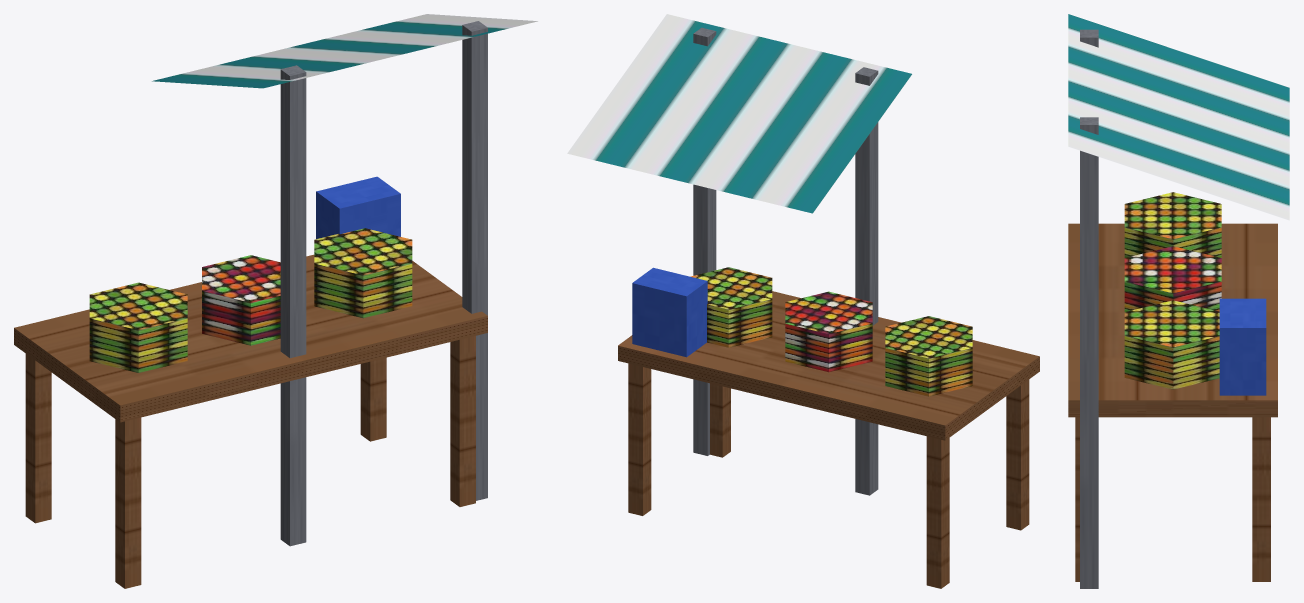
File: table-cream-far.glb
3 views of the same model, side by side, from view 1: azimuth 30°, elevation 25°; view 2: azimuth 150°, elevation 25°; view 3: azimuth 270°, elevation 25° (orthographic). The views are drawn at different scales.
Parts seen in each view (by area): view 1: table-cream-far; view 2: table-cream-far; view 3: table-cream-far.
Part boxes in pixels (left/top/right/bottom): table-cream-far: left=14, top=14, right=537, bottom=588; table-cream-far: left=567, top=14, right=1039, bottom=588; table-cream-far: left=1068, top=14, right=1289, bottom=588.
Size of the model in its own units: 2.05 by 2.2 by 0.9499.
1 material, 1 textured.
